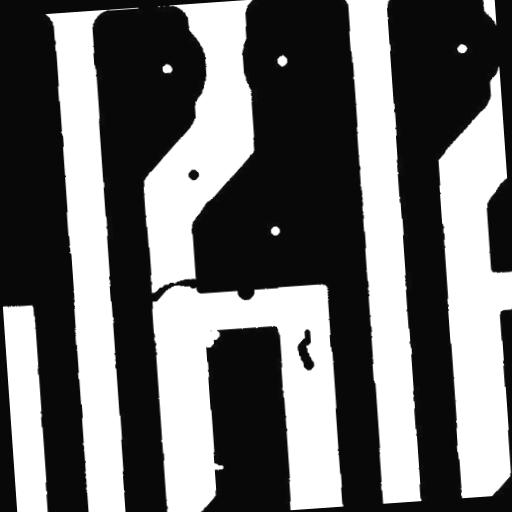copper: (288, 321, 322, 379), (180, 161, 206, 188)
mousebite: (193, 320, 228, 356), (204, 454, 231, 478)
pin-hole: (262, 218, 288, 244)
short: (136, 270, 206, 311)
spur: (228, 274, 262, 308)
